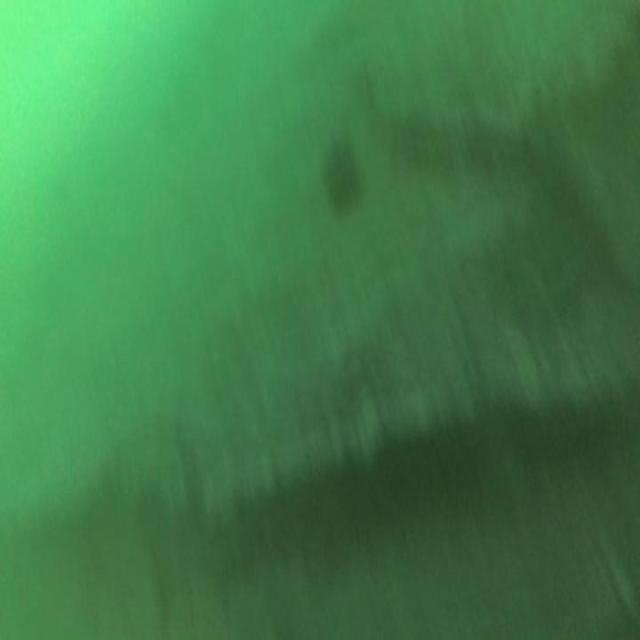echinus: (320, 131, 362, 223)
